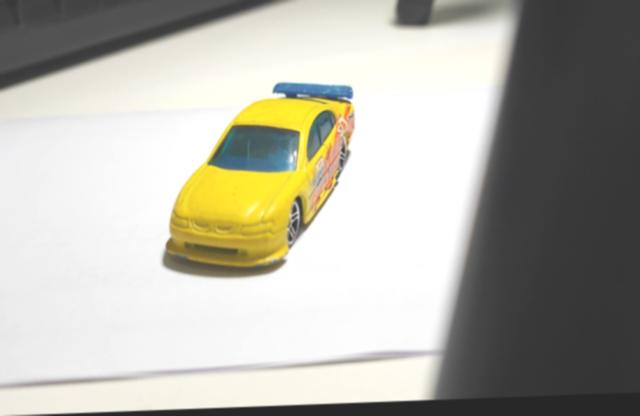02_OZSOME: (165, 85, 356, 270)
